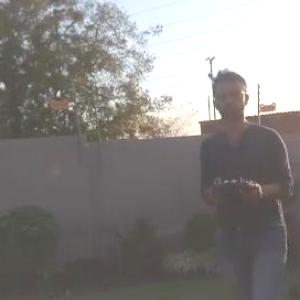follow: (196, 64, 298, 299)
